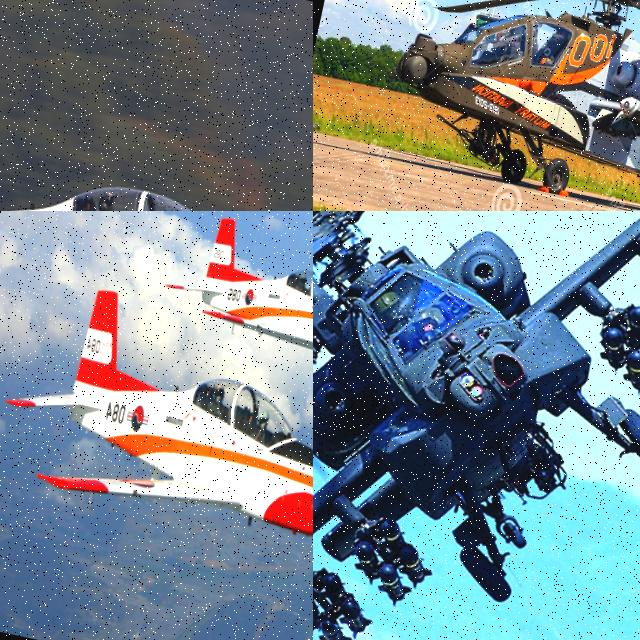Apache: (313, 211, 640, 640), (313, 0, 640, 211)
KT-1: (0, 278, 313, 557), (0, 75, 313, 211), (155, 212, 313, 372)
